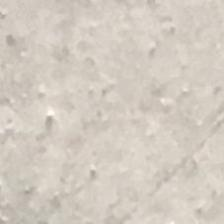Non_Crack: (19, 20, 208, 207)
